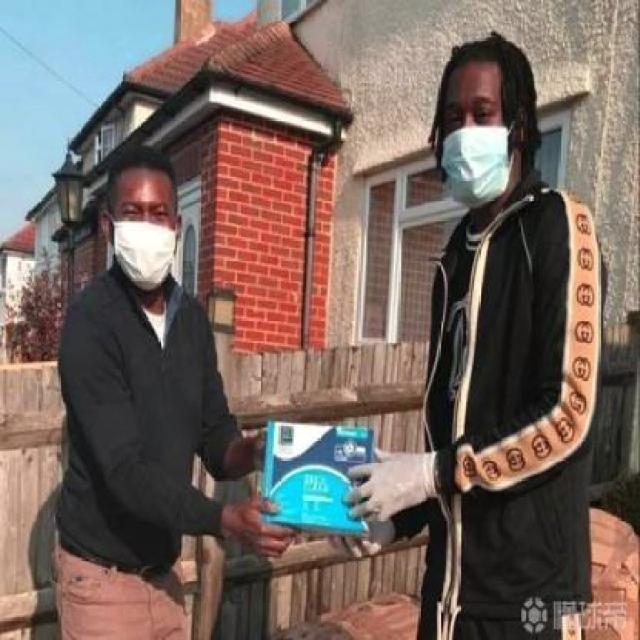face_mask: (434, 83, 517, 209), (109, 177, 171, 281)
hand_glove: (342, 446, 428, 526)
hand_noglove: (231, 492, 298, 562), (248, 426, 277, 469)
head_nohelmet: (431, 40, 514, 86), (96, 144, 176, 178)
person: (54, 137, 275, 640), (414, 32, 589, 640)
